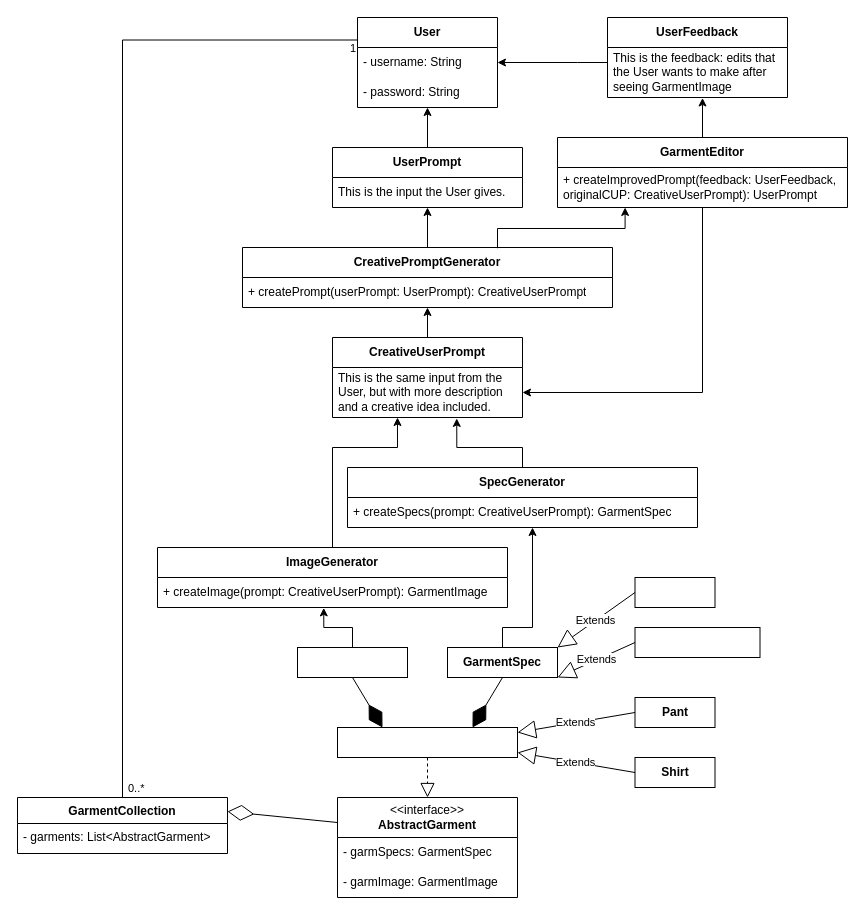
Image size: 865x915. Some labels were removed from this diagram. Each missing label, with the centre of its shape:
"EnumSpec" belongs at point 674,592.
"Garment" belongs at point 427,742.
"GarmentImage" belongs at point 352,662.
"MeasurementSpec" belongs at point 697,642.
